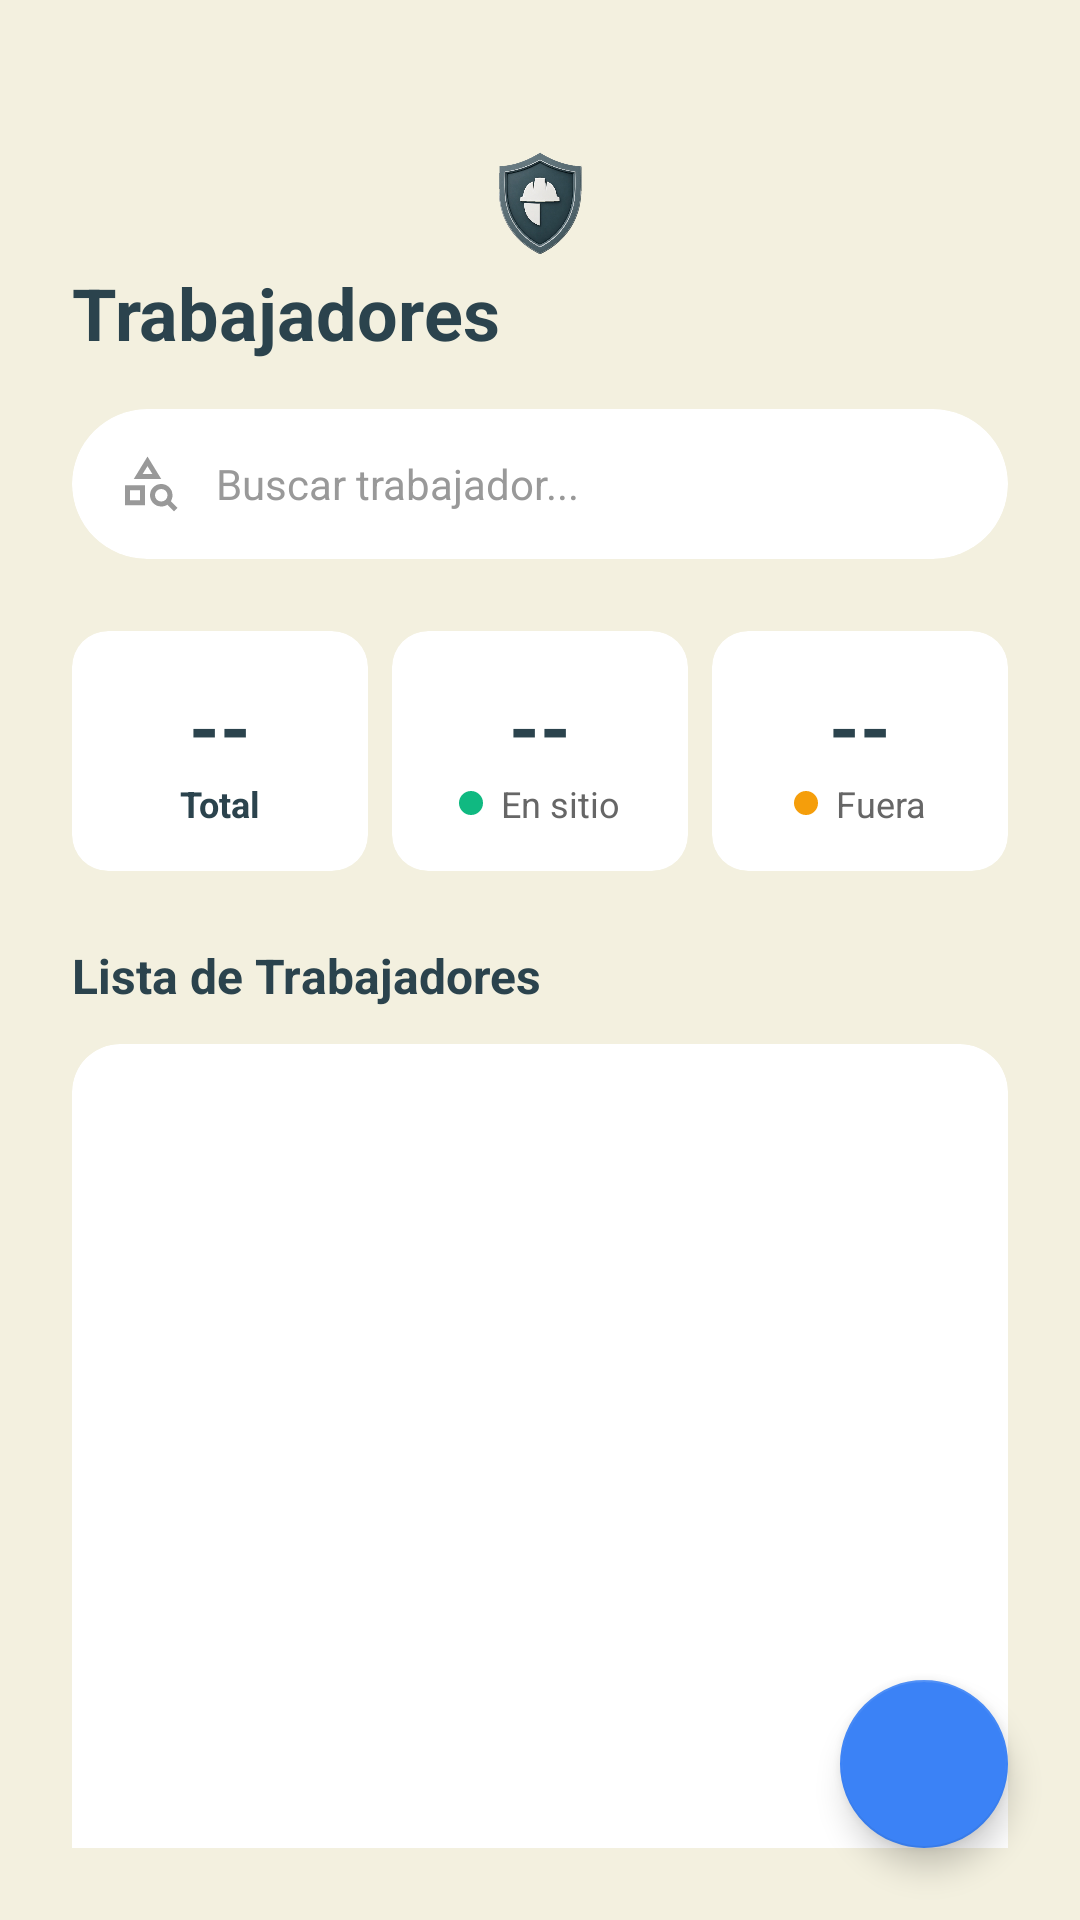

Named icons in this screenshot (1080 x 1920) and their bounding boxes, (x1, y1, x2, y2):
search: (125, 457, 177, 511)
